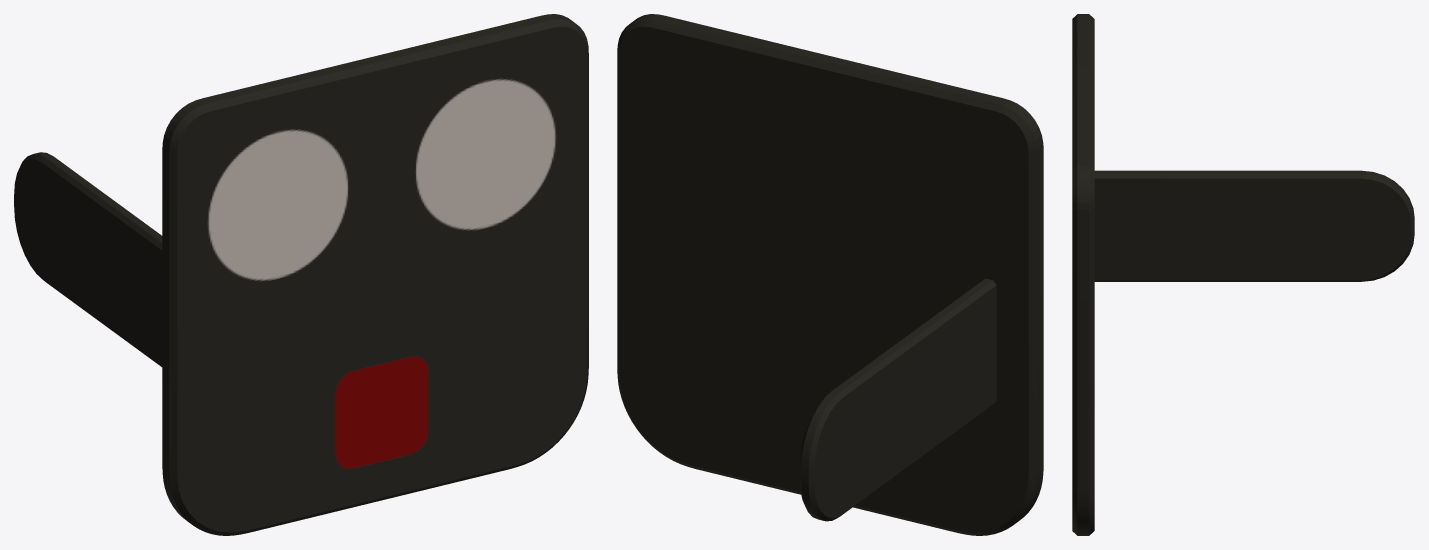
File: Head.fbx
3 renders of one model, left to right at view 1: azimuth 30°, elevation 25°; view 2: azimuth 150°, elevation 25°; view 3: azimuth 270°, elevation 25°, orthographic. The views are drawn at different scales.
Parts seen in each view (by area): view 1: Head; view 2: Head; view 3: Head.
Boxes of the visible parts, <box> form: Head: <box>14,14,588,535</box>; Head: <box>617,14,1043,535</box>; Head: <box>1072,14,1414,535</box>.
Bounding box in the file's own units: 5.65 × 5.65 × 4.6.
